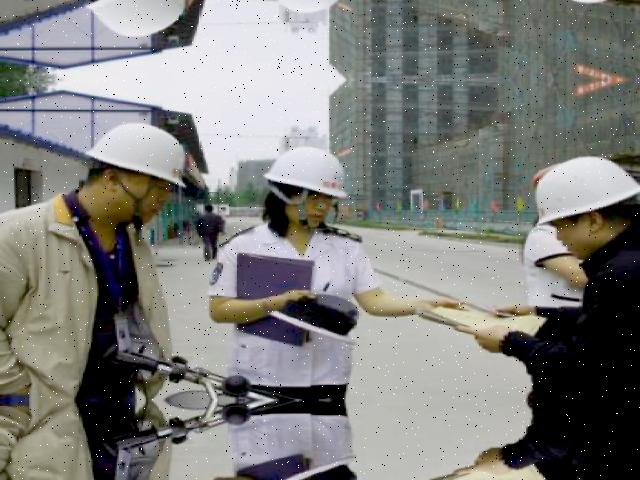Helmet: (528, 150, 640, 234), (81, 119, 197, 196), (255, 142, 352, 204)
